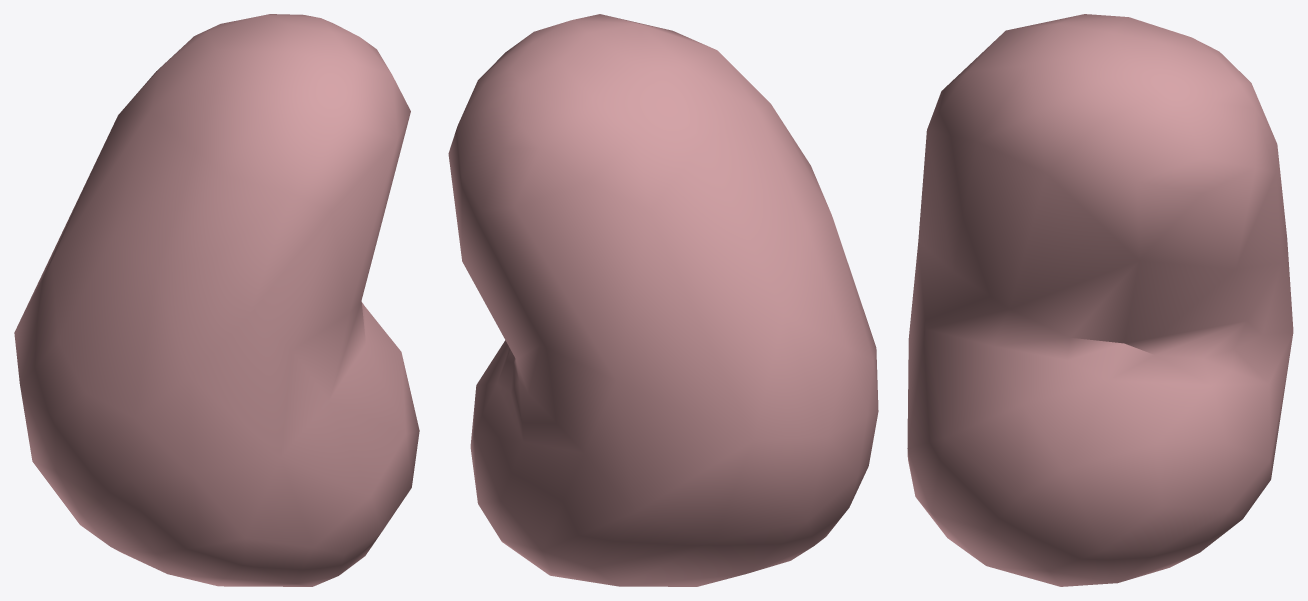
The model's file is fma14966_fj2593.glb.
3 views of the same model, side by side, from view 1: azimuth 30°, elevation 25°; view 2: azimuth 150°, elevation 25°; view 3: azimuth 270°, elevation 25° (orthographic). The views are drawn at different scales.
Parts seen in each view (by area): view 1: FMA14966_FJ2593; view 2: FMA14966_FJ2593; view 3: FMA14966_FJ2593.
Boxes of the visible parts, x1,y1,x2,y2 form: FMA14966_FJ2593: (14, 14, 419, 586); FMA14966_FJ2593: (448, 14, 878, 586); FMA14966_FJ2593: (907, 14, 1293, 586).
Bounding box in the file's own units: 0.0242 × 0.0337 × 0.0214.
